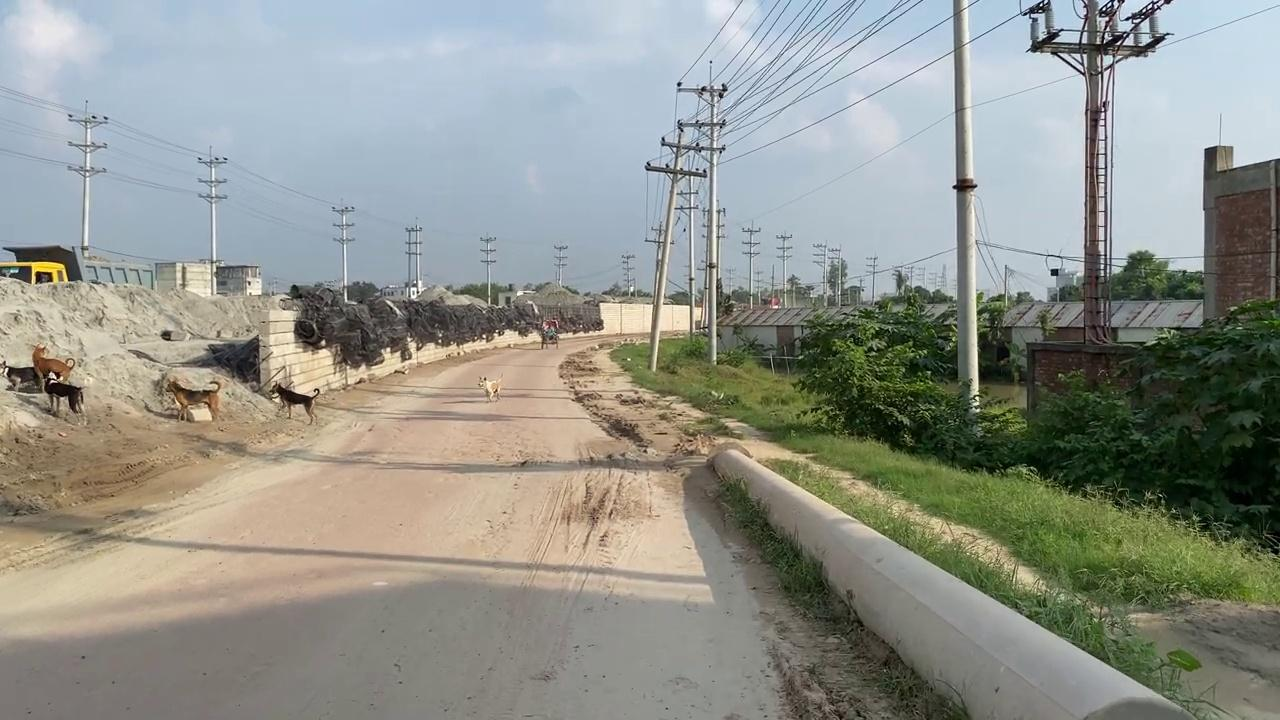Animal: (165, 378, 220, 421), (269, 379, 320, 425), (31, 344, 74, 391), (42, 375, 84, 416), (477, 373, 503, 402)
Dog: (0, 358, 74, 391)
Motorcycle: (539, 325, 559, 349)
Obstacle: (693, 441, 1202, 720)
Pole: (950, 0, 980, 414), (1081, 0, 1106, 345), (699, 61, 726, 365)
Rickshaw: (559, 275, 742, 442)
Tree: (0, 244, 262, 296), (0, 244, 83, 284), (0, 260, 69, 284)
